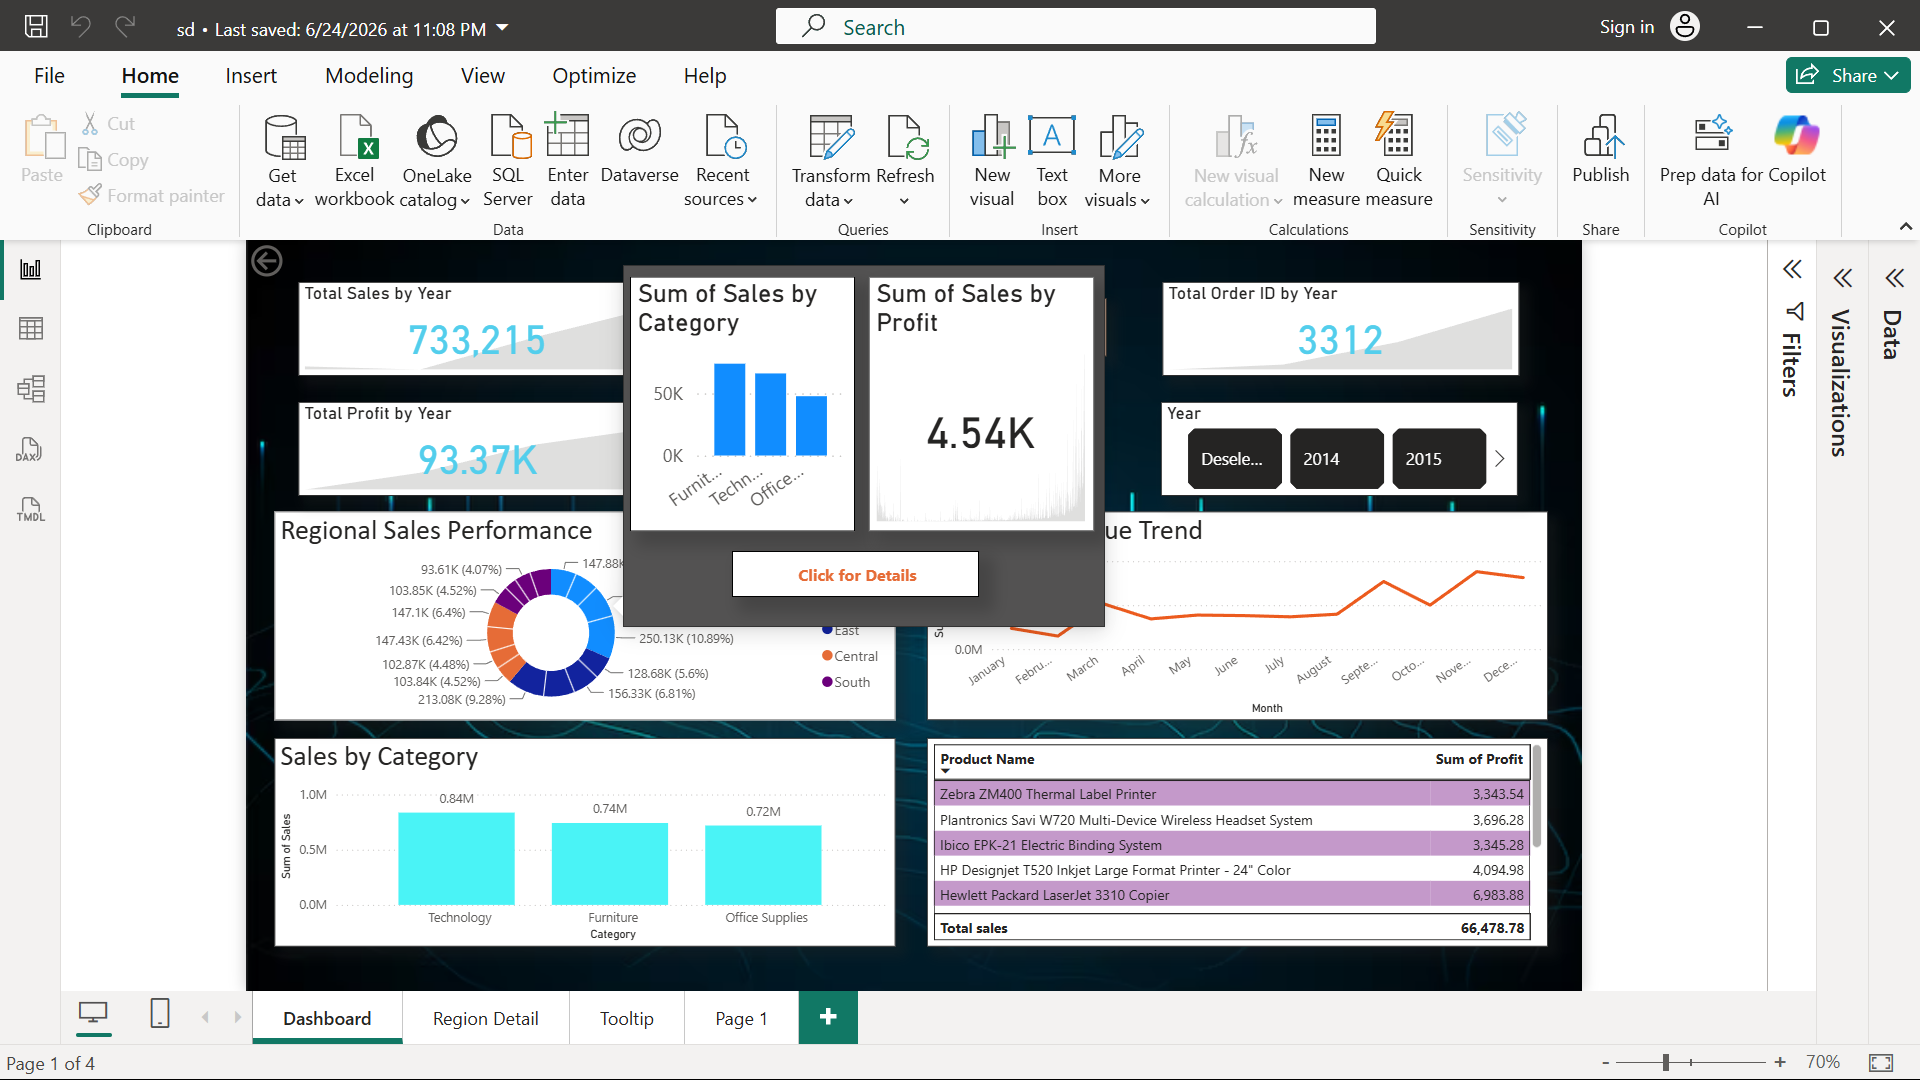

What the dashboard file says about the page in this screenshot:
{"tool":"powerbi","page":{"name":"Dashboard","canvas":[1280,720],"ordinal":0},"visuals":[{"type":"lineChart","title":"Monthly Revenue Trend","fields":{"Y":["Sum(Sample - Superstore.Sales)"],"Category":["Sample - Superstore.Order Date.Variation.Date Hierarchy.Month"]},"box":[653,260.6,595.5,200],"z":0},{"type":"columnChart","title":"Sales by Category","fields":{"Y":["Sum(Sample - Superstore.Sales)"],"Category":["Sample - Superstore.Category"]},"box":[27.3,477.3,595.5,200],"z":1000},{"type":"donutChart","title":"Regional Sales Performance","fields":{"Category":["Sample - Superstore.Region"],"Y":["Sum(Sample - Superstore.Sales)"],"Series":["Sample - Superstore.Year"]},"box":[27.3,260.4,595.1,199.9],"z":2000},{"type":"actionButton","box":[0,0,100,40],"z":3000},{"type":"tableEx","fields":{"Values":["Sample - Superstore.Product Name","Sum(Sample - Superstore.Profit)"]},"box":[653,477.3,595.5,200],"z":4000},{"type":"kpi","fields":{"Indicator":["Sum(Sample - Superstore.Sales)"],"TrendLine":["Sample - Superstore.Year"]},"box":[50,40,342.9,90],"z":5000},{"type":"kpi","fields":{"Indicator":["Sum(Sample - Superstore.Profit)"],"TrendLine":["Sample - Superstore.Year"]},"box":[50,155,343.3,90],"z":6000},{"type":"kpi","fields":{"Indicator":["CountNonNull(Sample - Superstore.Order ID)"],"TrendLine":["Sample - Superstore.Year"]},"box":[878.3,40,341.7,90],"z":7000},{"type":"advancedSlicerVisual","fields":{"Values":["Sample - Superstore.Year"]},"box":[876.7,155,341.7,90],"z":8000},{"type":"textbox","box":[443.3,56.7,381.7,55],"z":9000}]}

Visuals, with their boxes on the page's 1280x720 design canvas (x1, y1, x2, y2). These are canvas units, not pixel positions in the 1920x1080 screenshot, which may show the page scaled, cropped or inside an application window:
"Monthly Revenue Trend" lineChart: <box>653,261,1248,461</box>
"Sales by Category" columnChart: <box>27,477,623,677</box>
"Regional Sales Performance" donutChart: <box>27,260,622,460</box>
actionButton: <box>0,0,100,40</box>
tableEx - Sample - Superstore.Product Name x Sum(Sample - Superstore.Profit): <box>653,477,1248,677</box>
kpi - Sum(Sample - Superstore.Sales) x Sample - Superstore.Year: <box>50,40,393,130</box>
kpi - Sum(Sample - Superstore.Profit) x Sample - Superstore.Year: <box>50,155,393,245</box>
kpi - CountNonNull(Sample - Superstore.Order ID) x Sample - Superstore.Year: <box>878,40,1220,130</box>
advancedSlicerVisual - Sample - Superstore.Year: <box>877,155,1218,245</box>
textbox: <box>443,57,825,112</box>
